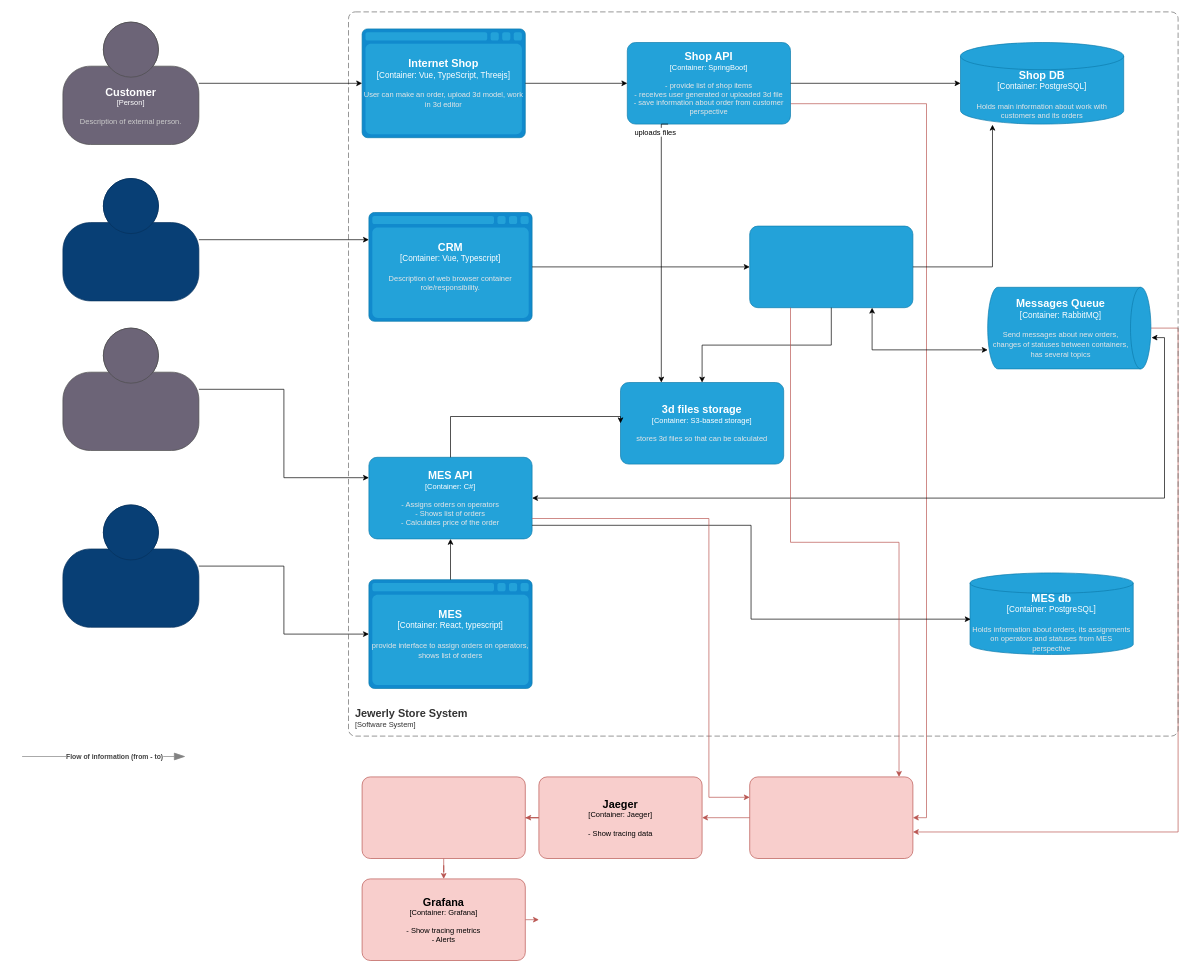
Some shapes in this 1195 by 972 pixel diagram are drawn without their labels. The centre of each missing label's shape, as x and y in pixels:
API user [Person] Description of external person.: the point at 130,389
CRM API [Container: SpringBoot] Description of container role/responsibility.: the point at 831,266
Open Telemetry [Container: Open Telemetry] - Collect tracing data: the point at 831,817
Operator [Person] Takes order in work, manufactures jewerly: the point at 130,565
Prometheus [Container: Prometheus] - Collect tracing metrics: the point at 443,817
Seller [Person] Operates with order, confirms manufacturing for the user: the point at 130,239
